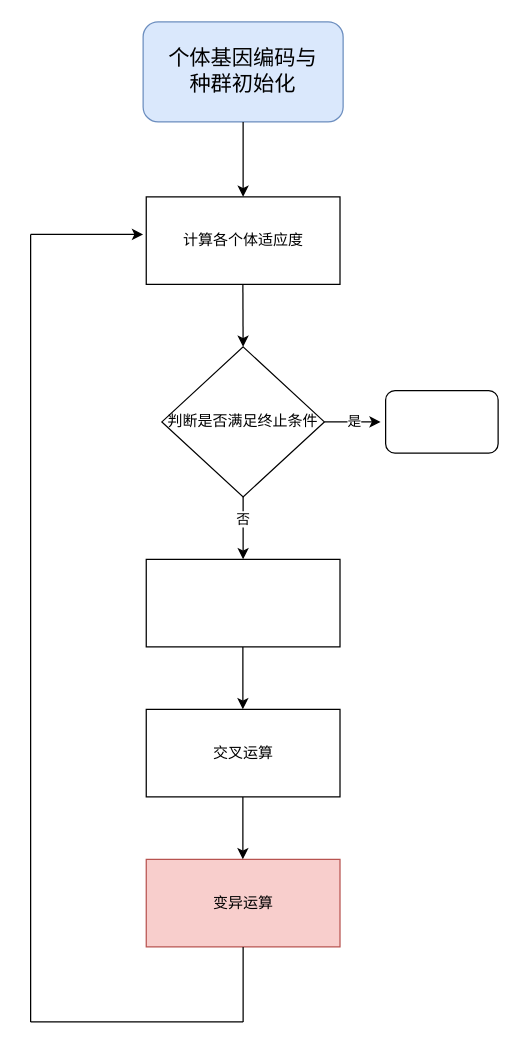
This 520x1045 diagram has some shape labels left out. Here are the shapes that lost their labels. From the top down, the centre of each, then its label:
At point (441, 421): "停止迭代".
At point (242, 602): "选择运算".
